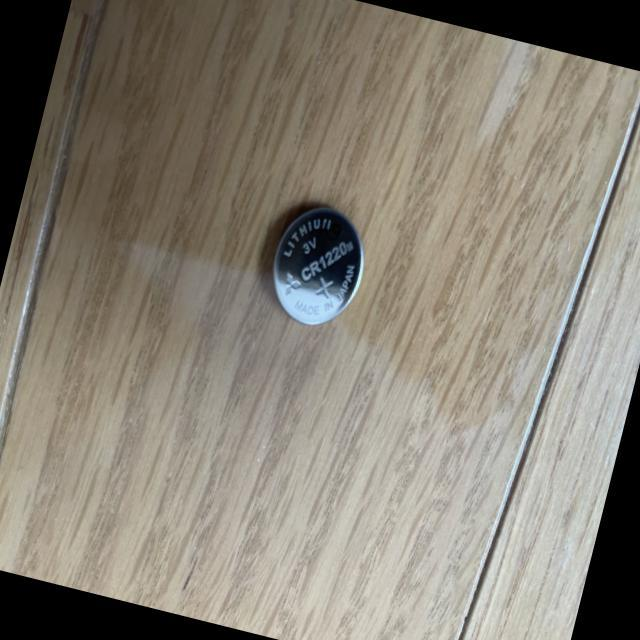COIN: (254, 192, 378, 336)
